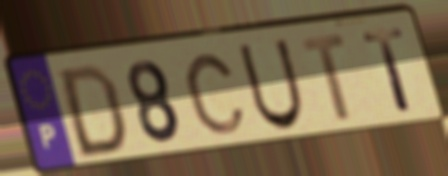8: (126, 59, 183, 146)
C: (181, 51, 249, 137)
D: (57, 61, 129, 161)
T: (359, 24, 416, 115), (299, 30, 354, 124)
U: (234, 36, 307, 134)
